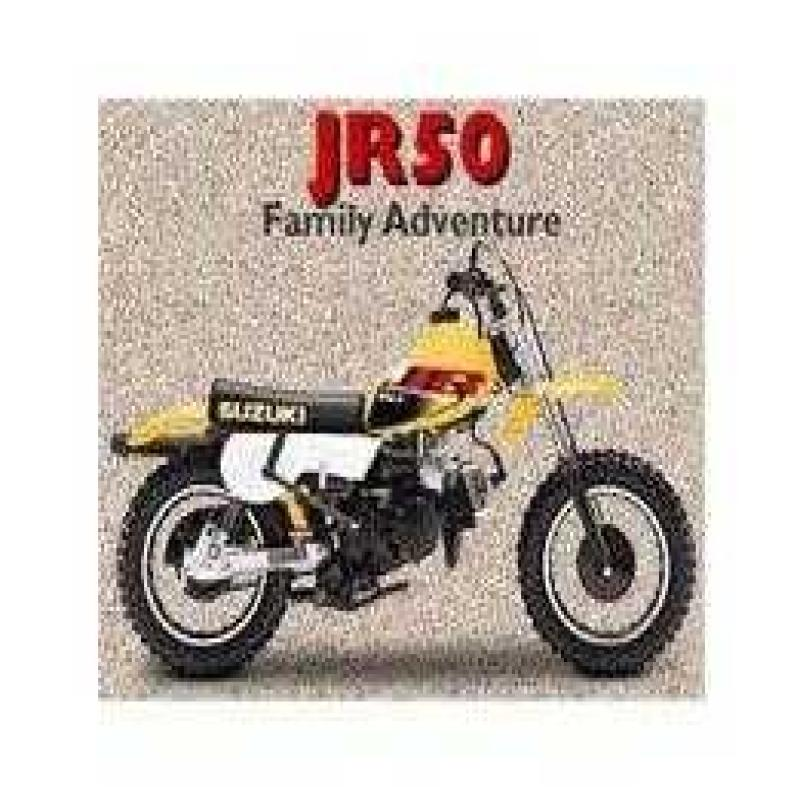bike: (114, 262, 714, 685)
